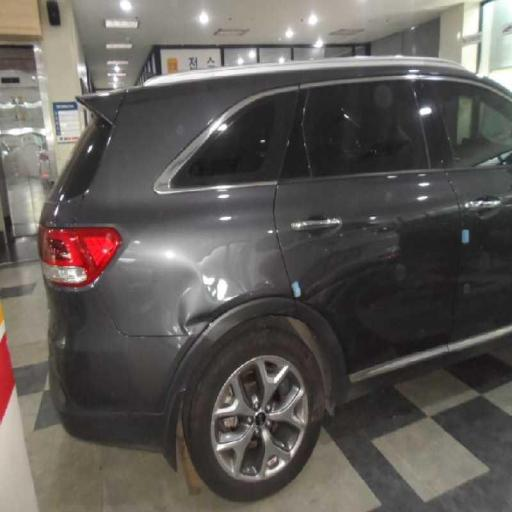dent: (113, 203, 271, 360)
scratch: (294, 192, 426, 318)
